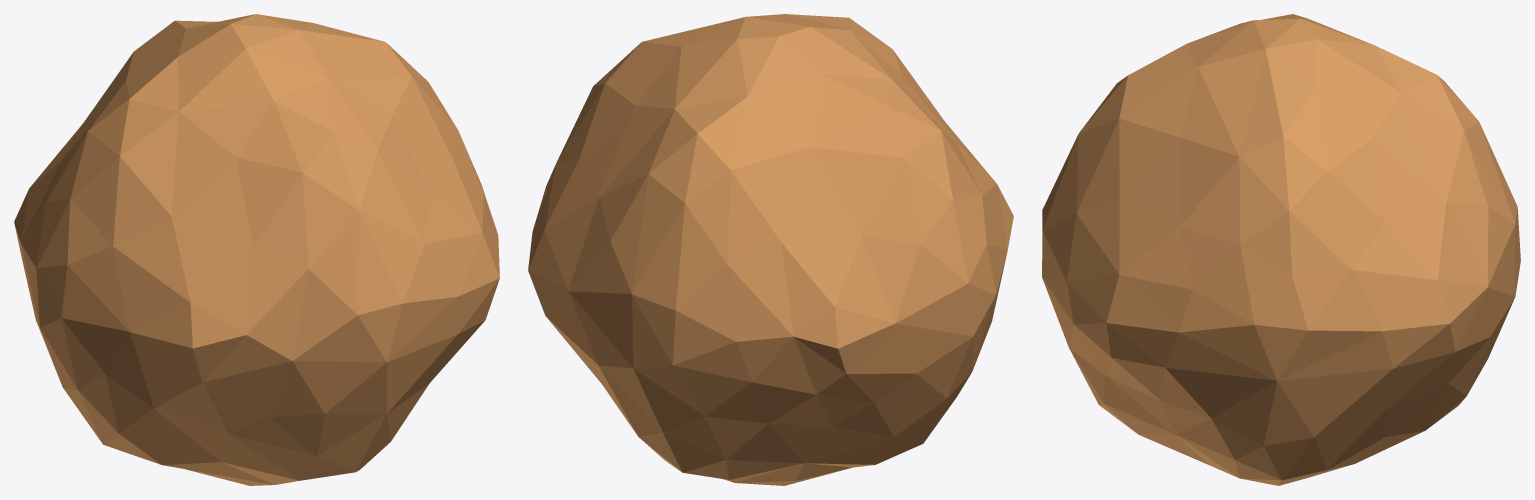
The model's file is Wool_Fox.fbx.
The picture shows the model from 3 angles, left to right: view 1: azimuth 30°, elevation 25°; view 2: azimuth 150°, elevation 25°; view 3: azimuth 270°, elevation 25°; orthographic projection.
Parts seen in each view (by area): view 1: Wool_Fox; view 2: Wool_Fox; view 3: Wool_Fox.
Part boxes in pixels (x1,y1,x2,y2): Wool_Fox: (14,14,499,485); Wool_Fox: (528,14,1013,485); Wool_Fox: (1042,14,1520,485).
Size of the model in its own units: 0.4988 by 0.5048 by 0.494.
